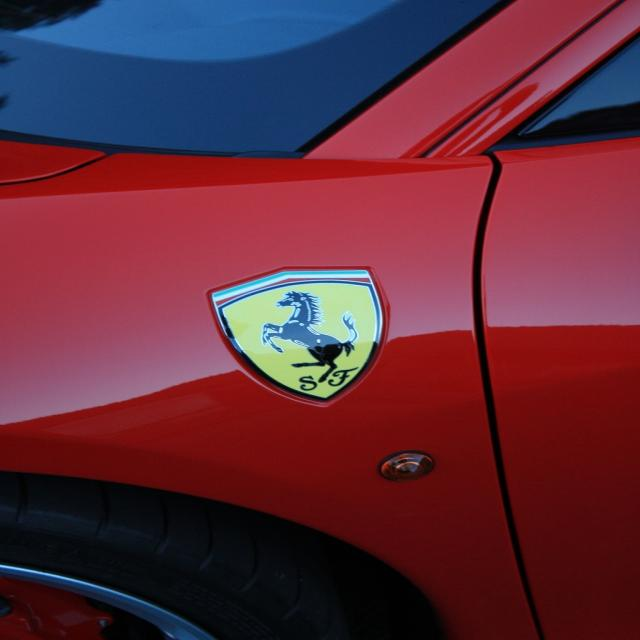ferrari: (208, 269, 388, 404)
